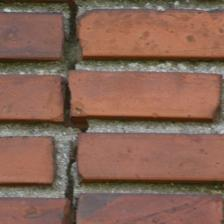Crack: (59, 5, 91, 223)
